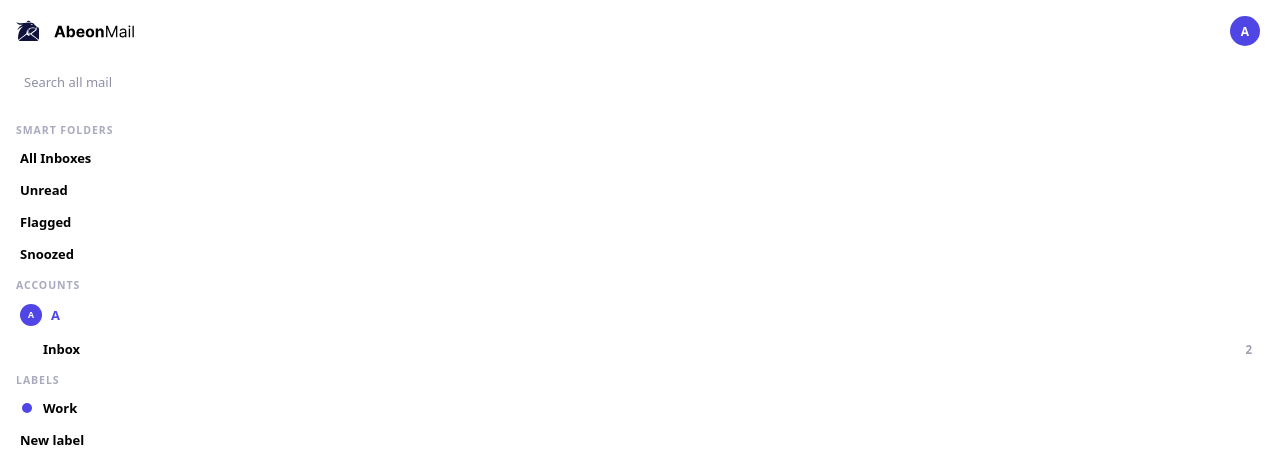
Test case: MailboxRail › collapses and re-expands the selected account's folders on click
expect the text "Inbox" is shown: met, box [43,340,80,358]
Click the 3rd text "A" at (56, 315), box [51,306,60,324]
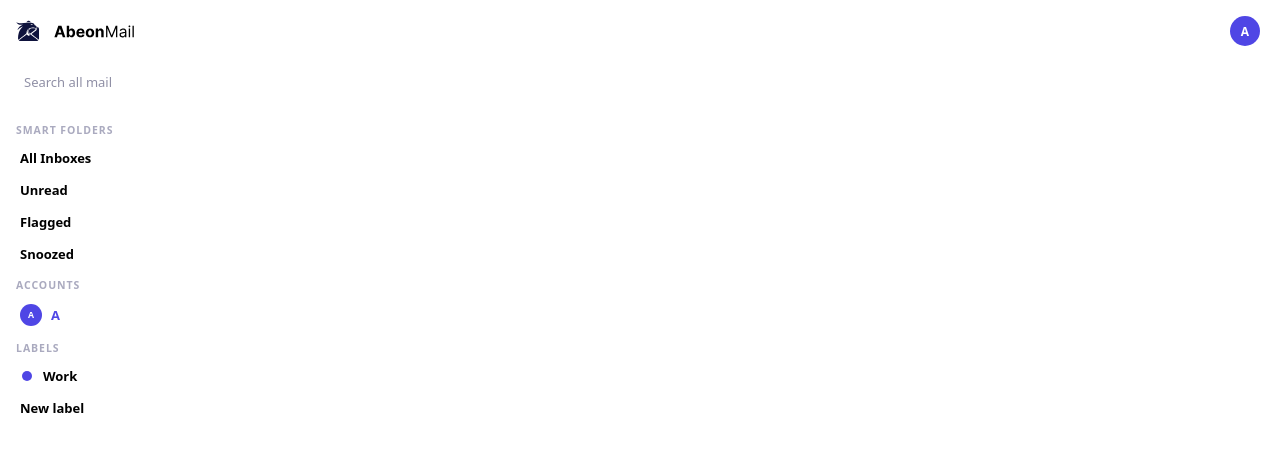
Click the 3rd text "A" at (56, 315), box [51,306,60,324]
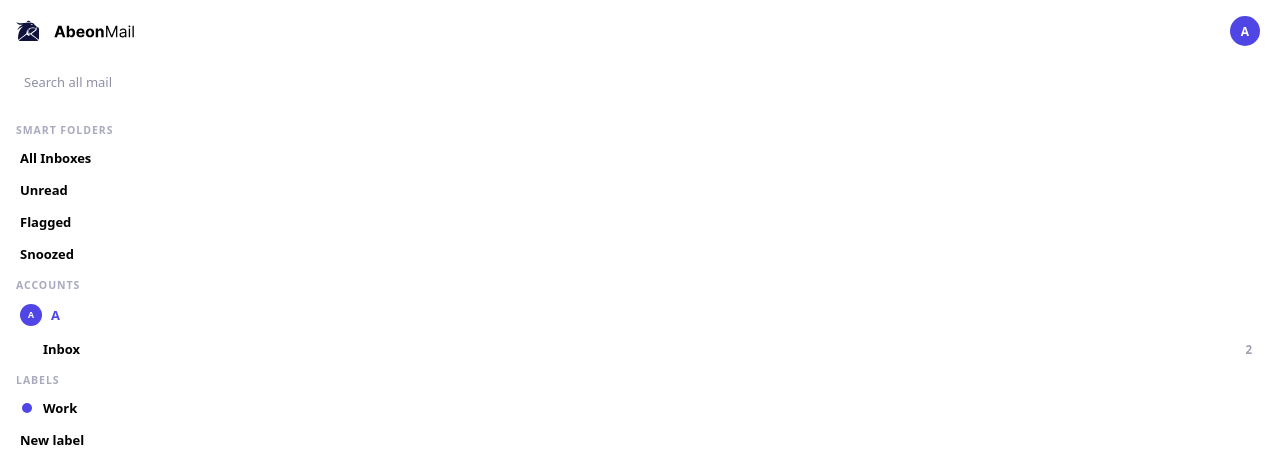
expect the text "Inbox" is shown: met, box [43,340,80,358]
